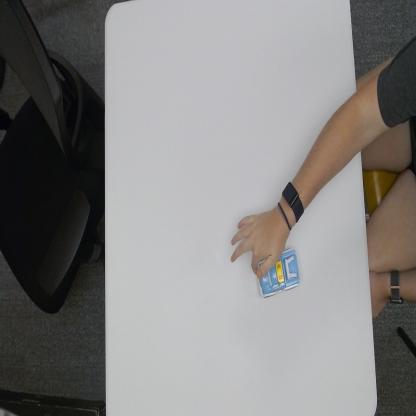Arm: (299, 90, 362, 200)
Car: (257, 247, 301, 297)
Hand: (231, 211, 290, 280)
